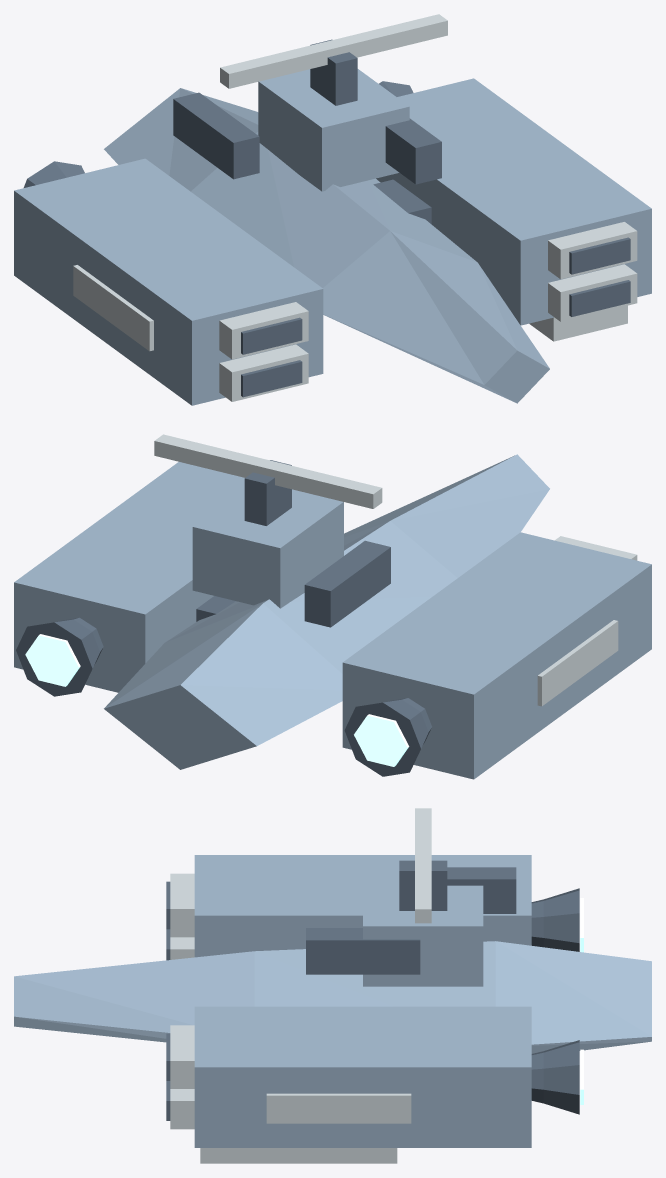
The picture shows the model from 3 angles, top to bottom: view 1: azimuth 30°, elevation 25°; view 2: azimuth 150°, elevation 25°; view 3: azimuth 270°, elevation 25°; orthographic projection. The views are drawn at different scales.
Bounding box in the file's own units: 10.77 × 5.19 × 13.41.
